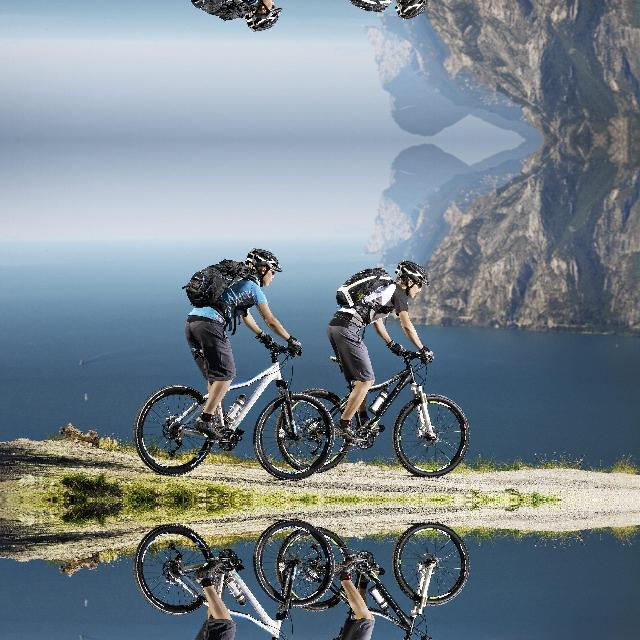obstacle: (123, 326, 333, 488), (123, 512, 333, 640), (312, 336, 484, 488), (312, 512, 484, 640)
